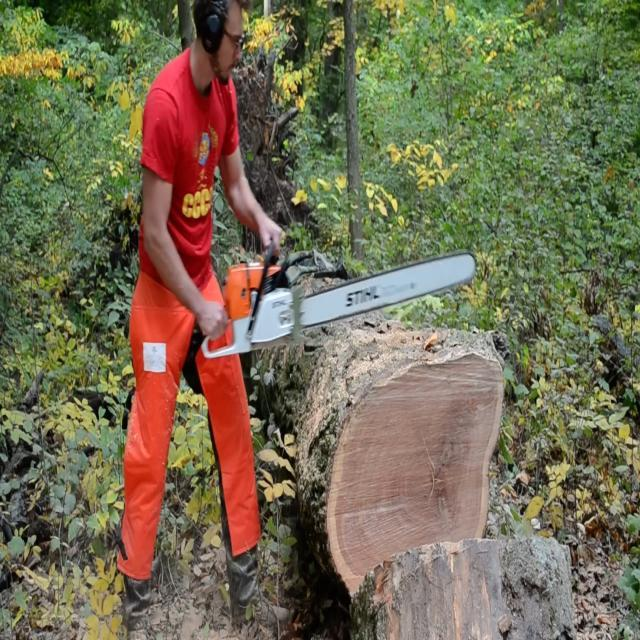Chainsaw: (185, 228, 495, 373)
